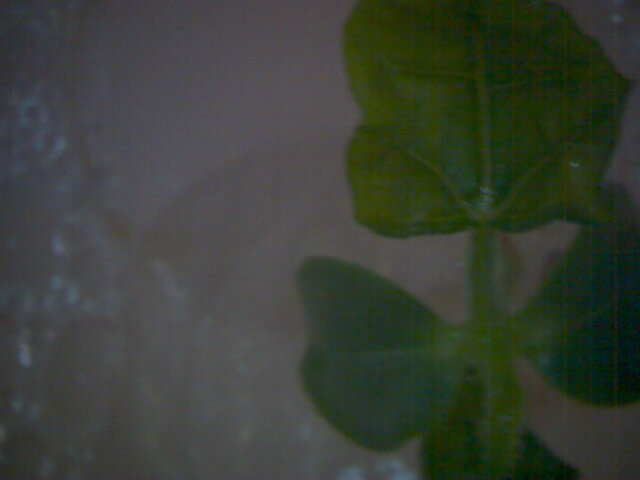lil_plant: (294, 11, 619, 459)
